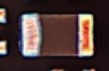COMP: (14, 10, 100, 62)
GAP: (1, 14, 33, 55)
